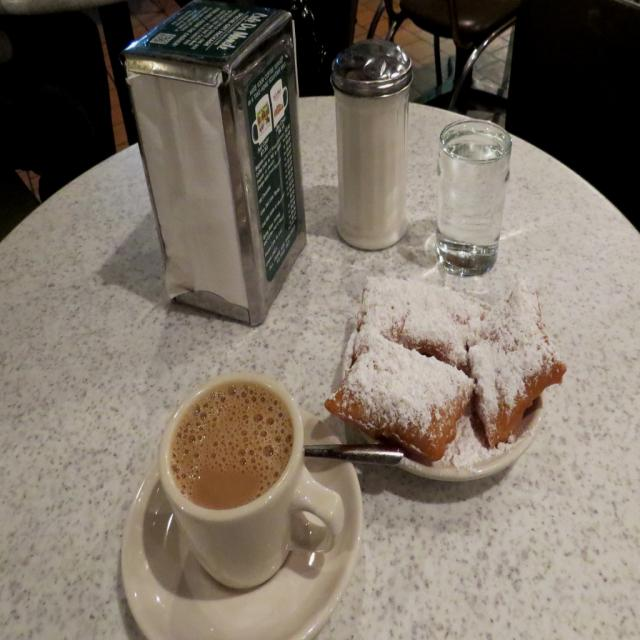Coffee: (167, 385, 297, 508)
Tea: (171, 383, 291, 510)
